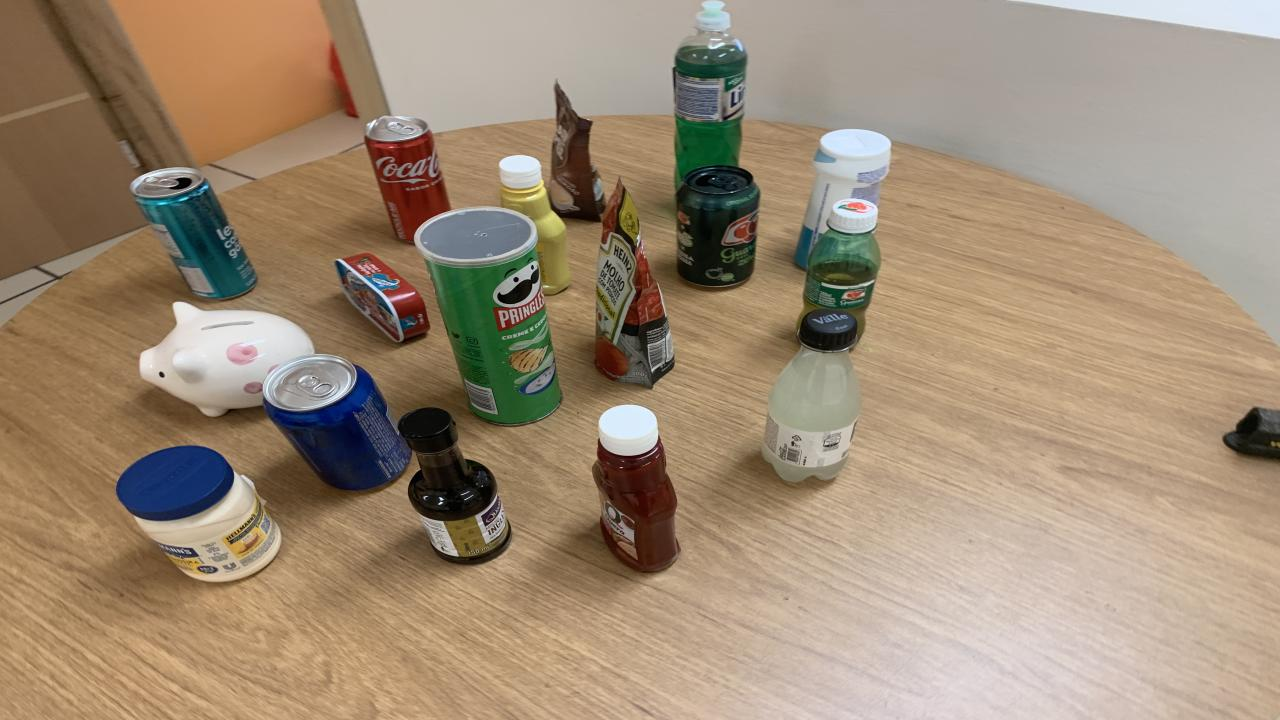Cleaner-Cleanup_Items: (795, 129, 890, 266)
Coffee-Pantry_Items: (548, 82, 605, 221)
Coke-Drinks: (365, 116, 450, 242)
Detergent-Cleanup_Items: (672, 28, 748, 188), (698, 0, 728, 30)
English_Sauce-Pantry_Items: (400, 407, 510, 564)
Guarana-Drinks: (800, 197, 882, 334)
Guarana_Can-Drinks: (678, 165, 760, 287)
Ketchup-Pantry_Items: (592, 405, 680, 572)
Mayonnaise-Pantry_Items: (115, 446, 282, 583)
Mustard-Pantry_Items: (500, 156, 570, 294)
Pig_Safe-Miscellaneous: (140, 302, 315, 416)
Pringles-Snacks: (415, 206, 562, 424)
Soda-Drinks: (760, 308, 862, 482)
Tea-Drinks: (130, 167, 258, 298)
Tomato_Sauce-Pantry_Items: (595, 182, 675, 388)
Tonic-Drinks: (262, 354, 412, 489)
Tuna_Can-Pantry_Items: (335, 253, 430, 341)
